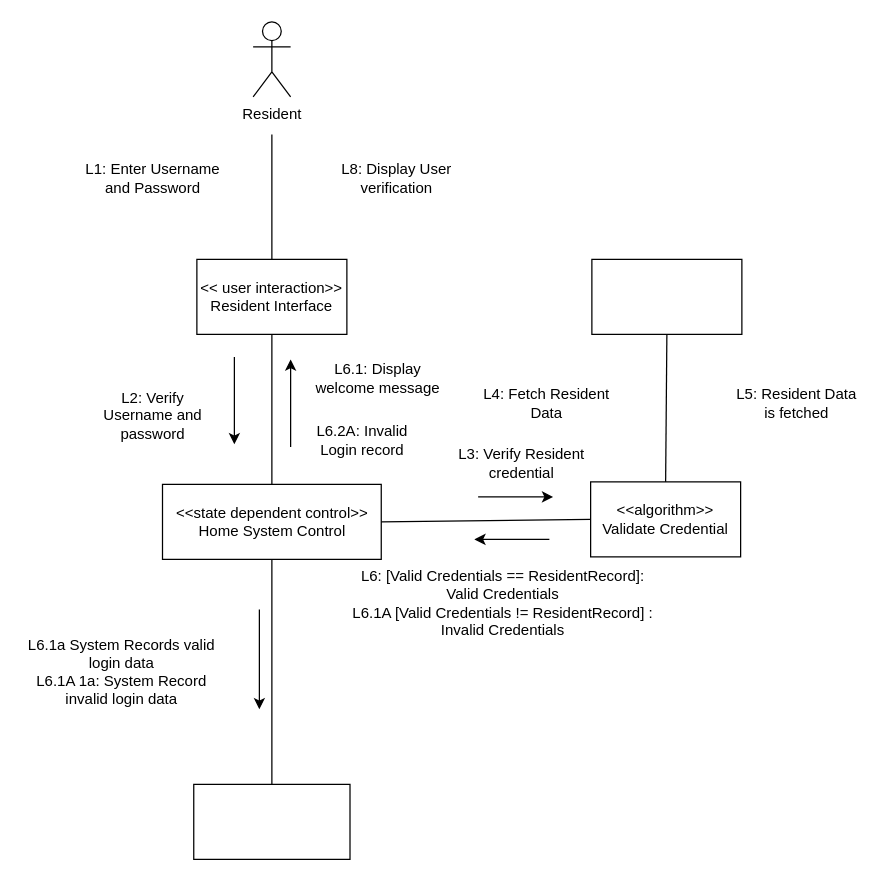
Image size: 886x881. Some labels were removed from this diagram. The centre of each missing label's shape, as x and y in pixels:
"<< entity >> Resident Data Log" goes at point 666,296.
"<<entity>> ResidentLog" goes at point 271,821.
